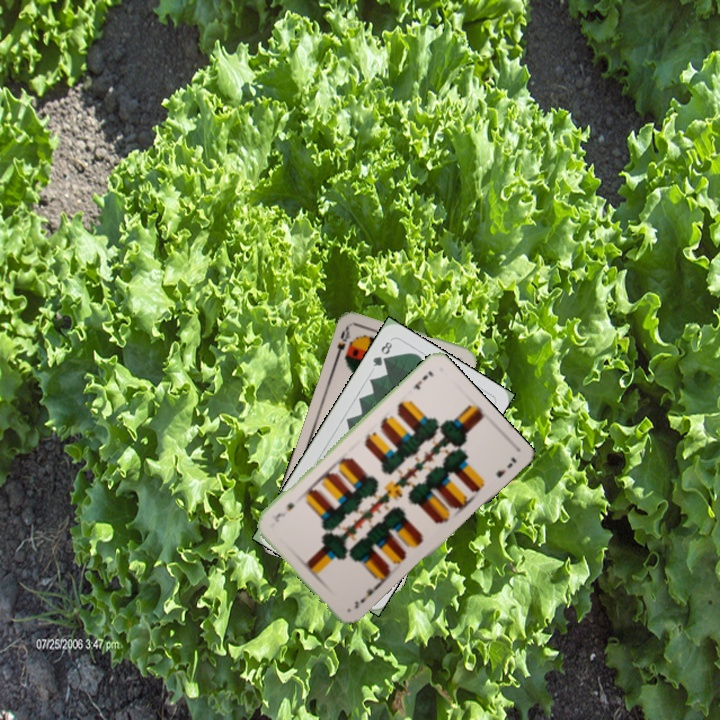E7: (350, 581, 382, 611), (408, 367, 436, 392)
G8: (369, 337, 395, 369)
SO: (332, 321, 353, 361)
